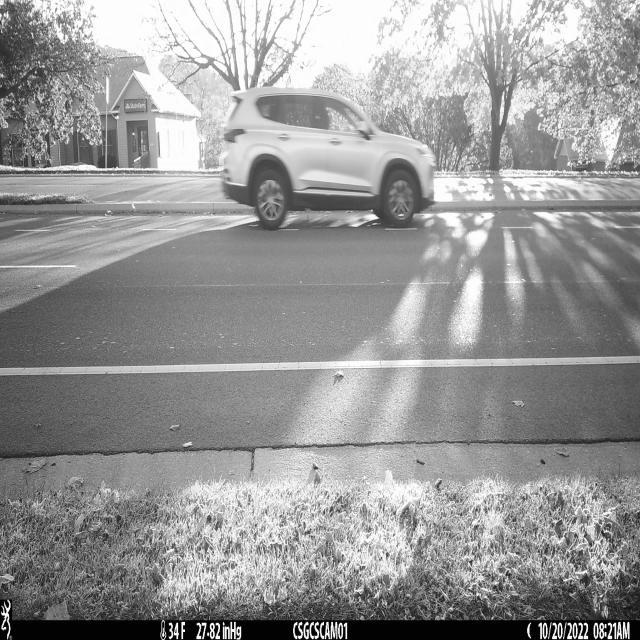SUV: (220, 87, 437, 231)
